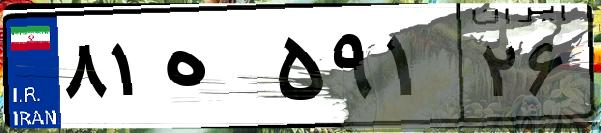1: (385, 28, 445, 110), (110, 28, 158, 98)
2: (475, 38, 525, 113)
5: (270, 28, 330, 110)
6: (525, 38, 570, 115)
8: (57, 26, 110, 100)
9: (330, 28, 385, 110)
ه: (158, 20, 270, 120)
